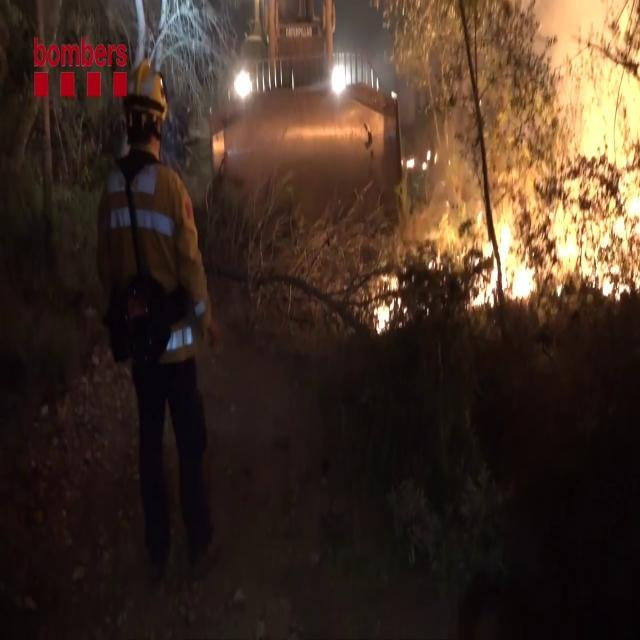Fire: (541, 4, 640, 302), (476, 202, 536, 308), (364, 262, 410, 342)
